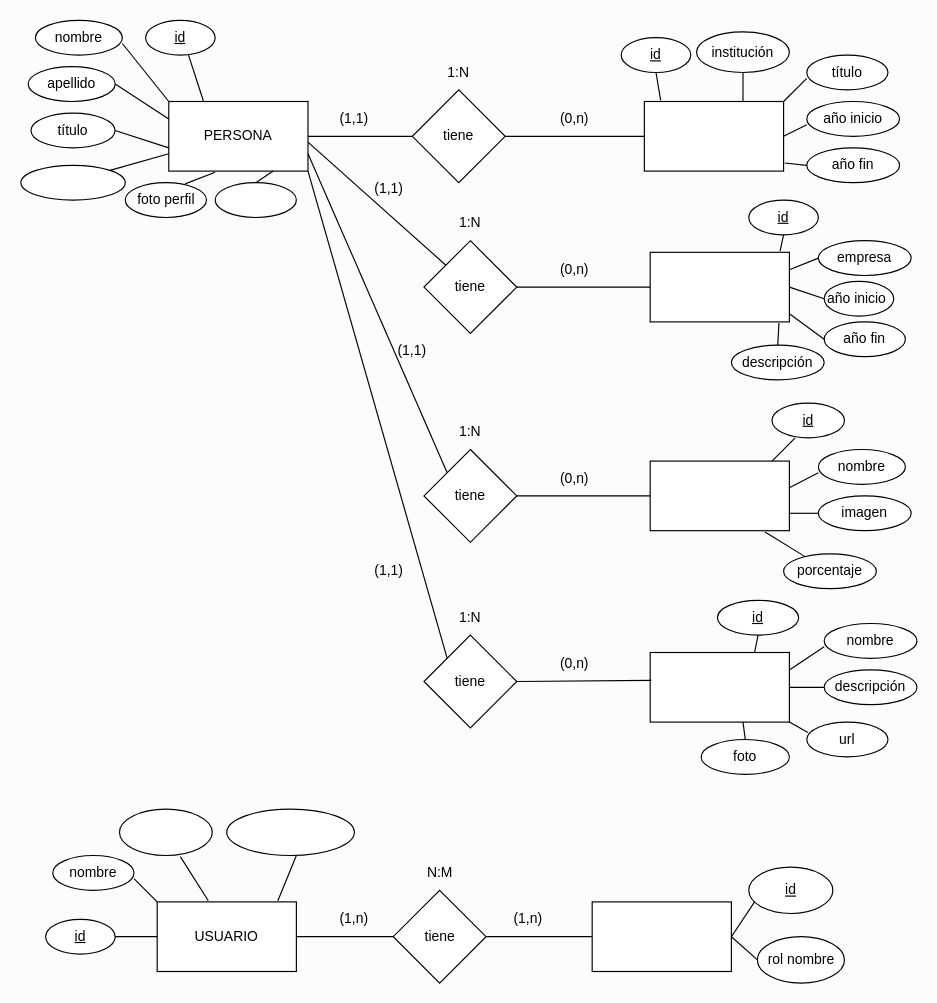
The diagram is 937 pixels wide and 1003 high, and some of its shapes have lost their labels. Here are the shapes that lost their labels. From the top down, the centre of each, then its label:
At point 713,135: "EDUCACIÓN".
At point 72,182: "acerca de mí".
At point 255,199: "banner".
At point 719,286: "EXPERIENCIA".
At point 719,495: "SKILL".
At point 719,686: "PROYECTO".
At point 165,831: "password".
At point 290,831: "nombre usuario".
At point 661,936: "ROL".
